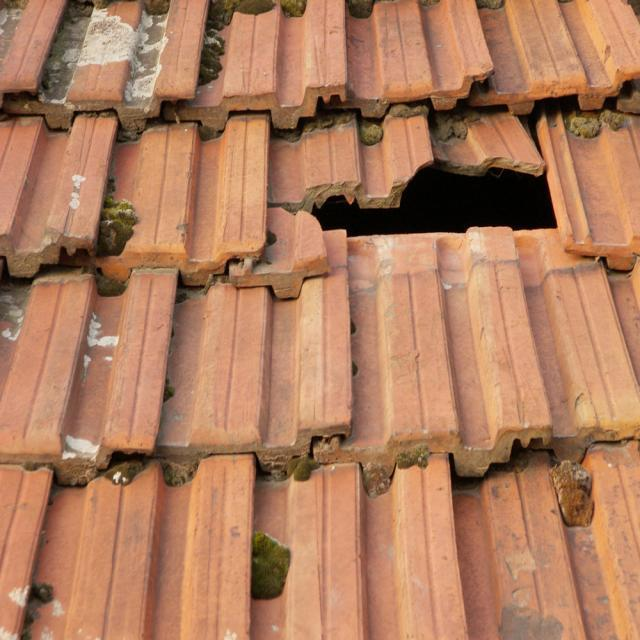trou: (272, 108, 574, 239)
